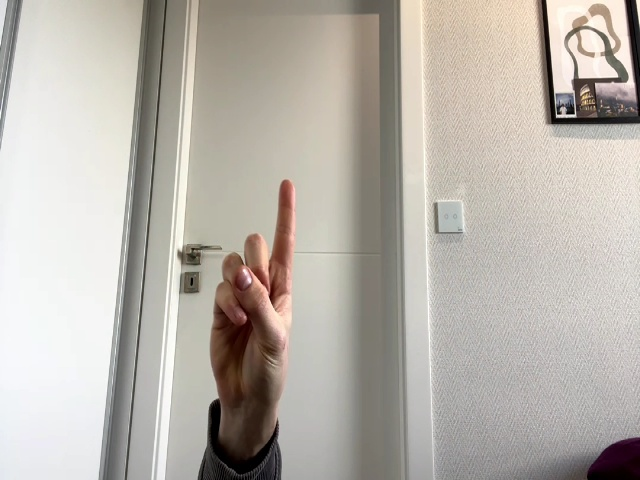Z: (210, 179, 295, 411)
